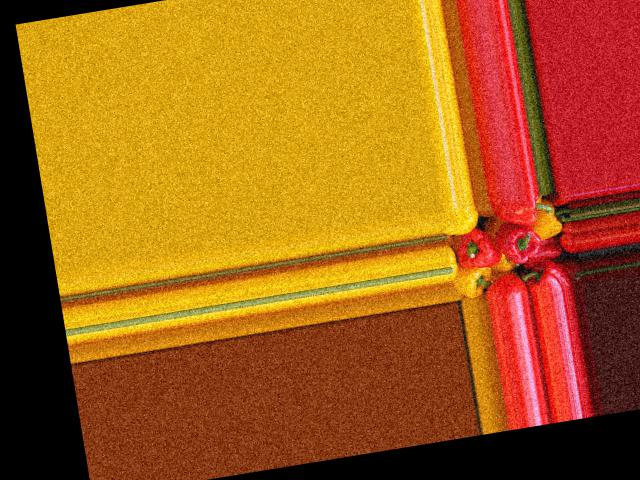bell_pepper: (451, 261, 490, 297)
